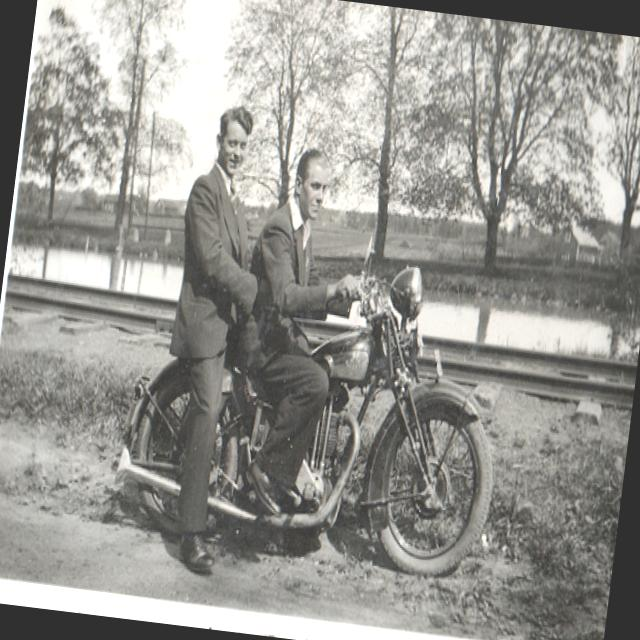Vehicle: (110, 238, 516, 588)
